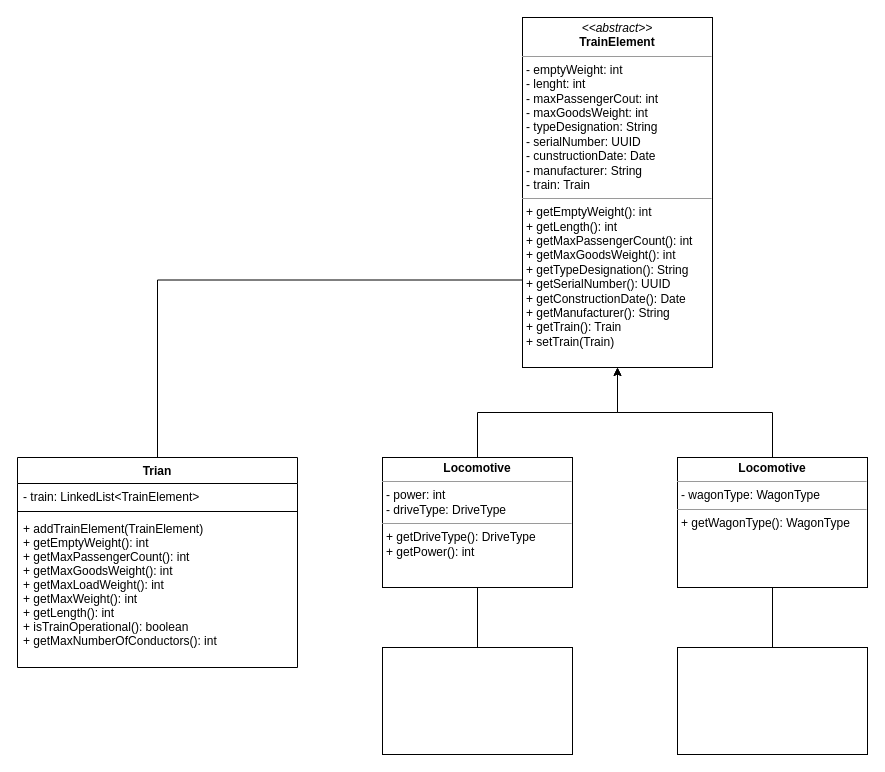
This 885x772 diagram has some shape labels left out. The shapes that lost their labels are listed below. From the top down, each one's centre as x and y in pixels, then its label:
At point (477, 700): "<<Enumeration>> DriveType + diesel + steam + electric".
At point (772, 700): "<<Enumeration>> WagonType + passenger + sleep + eating + goods".
